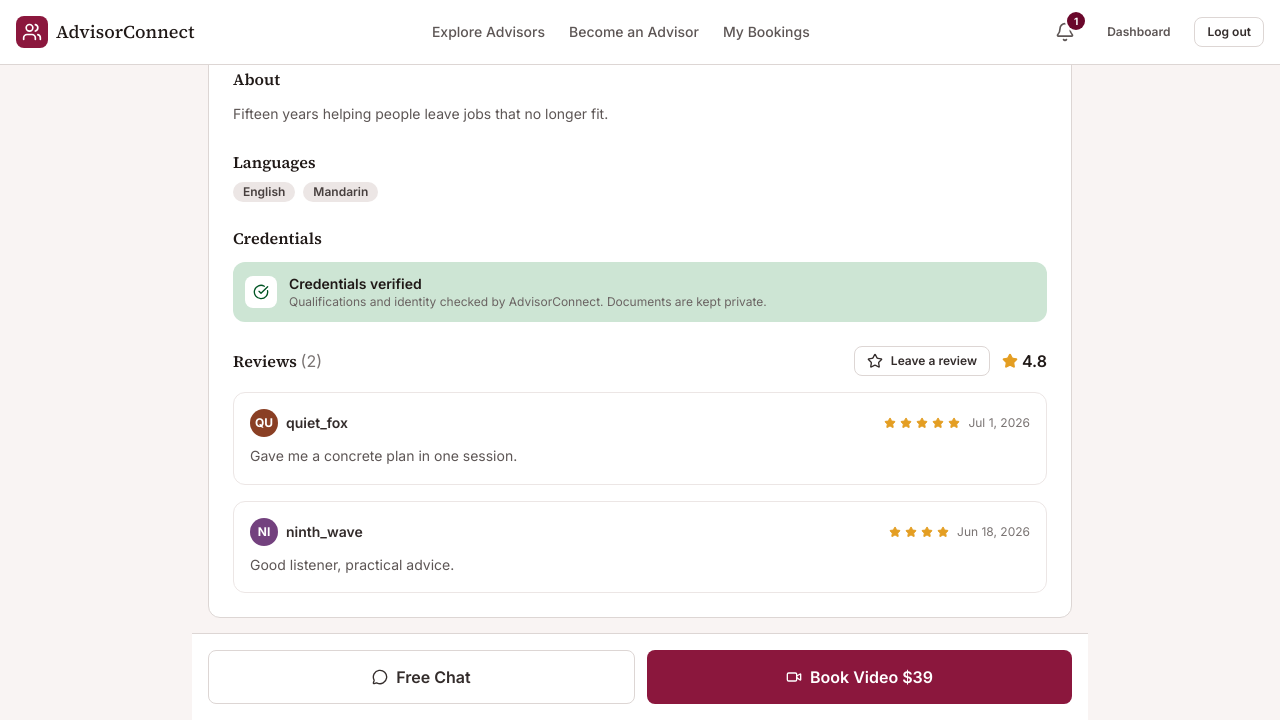
Scenario: AdvisorProfilePage › leave-a-review CTA › opens ReviewModal for the eligible booking and submits against this advisor
(page scrolled)
Click the button "Leave a review" at (922, 361), box top-left (854, 346), bottom-right (990, 376)
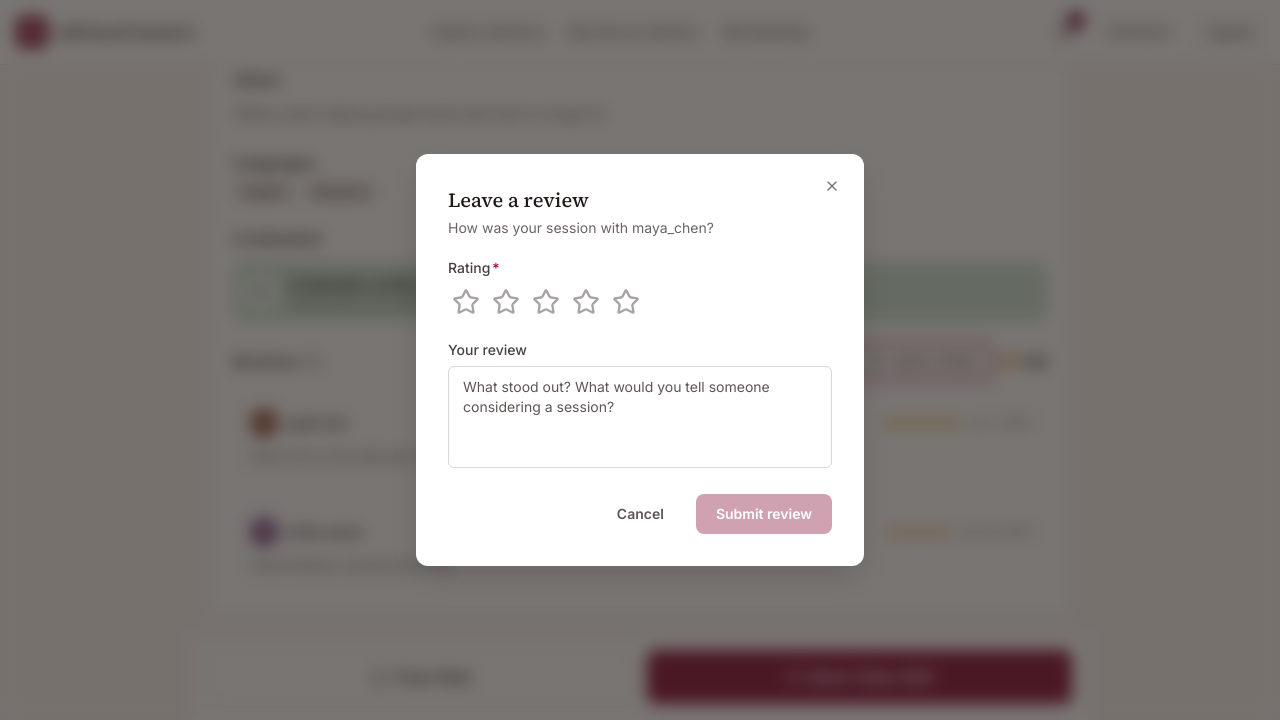
Check: the text "How was your session with maya_chen?" is shown, box top-left (448, 219), bottom-right (714, 236)
Click the radio button named "5 stars" at (626, 302), box top-left (608, 284), bottom-right (644, 320)
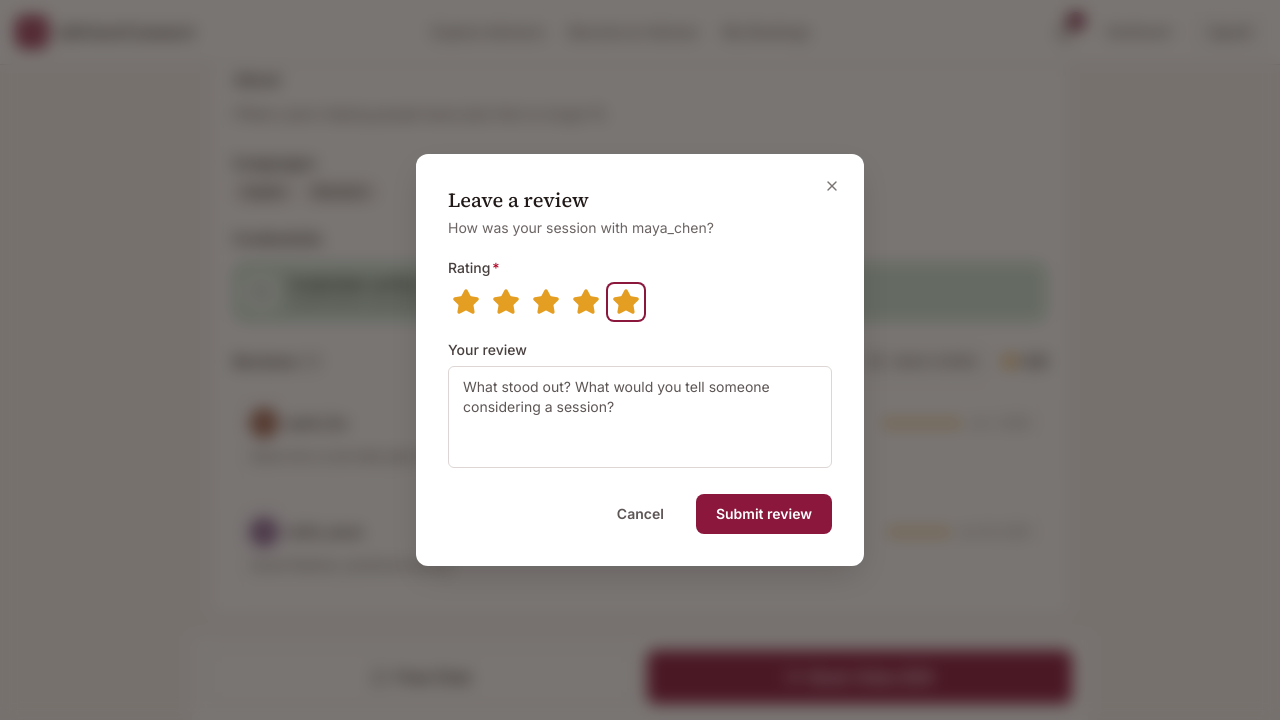
Click the button "Submit review" at (764, 514), box top-left (696, 494), bottom-right (832, 534)
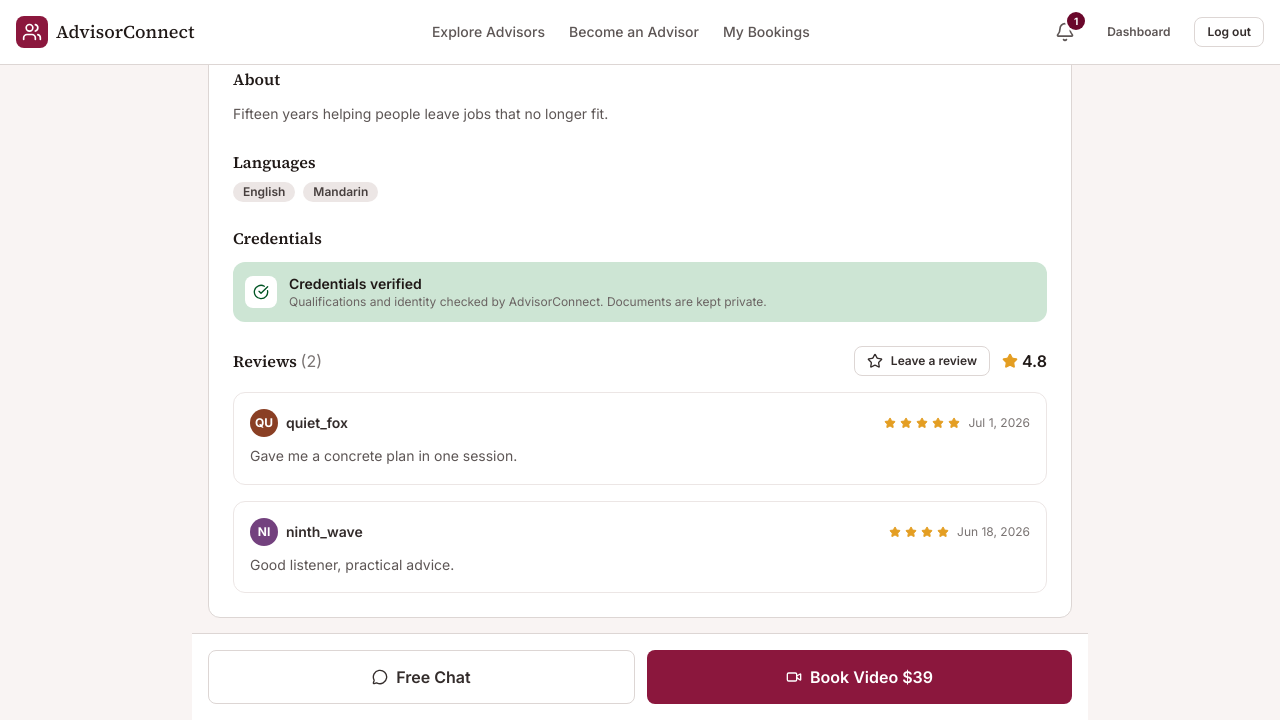
Check: the dialog is gone
